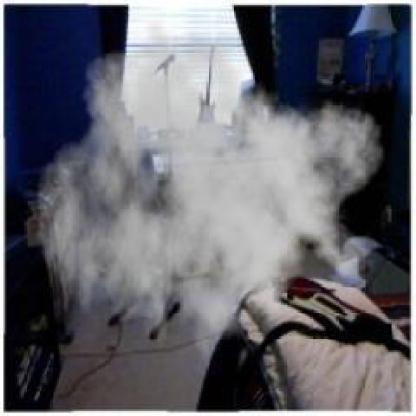Smoke: (35, 11, 387, 379)
